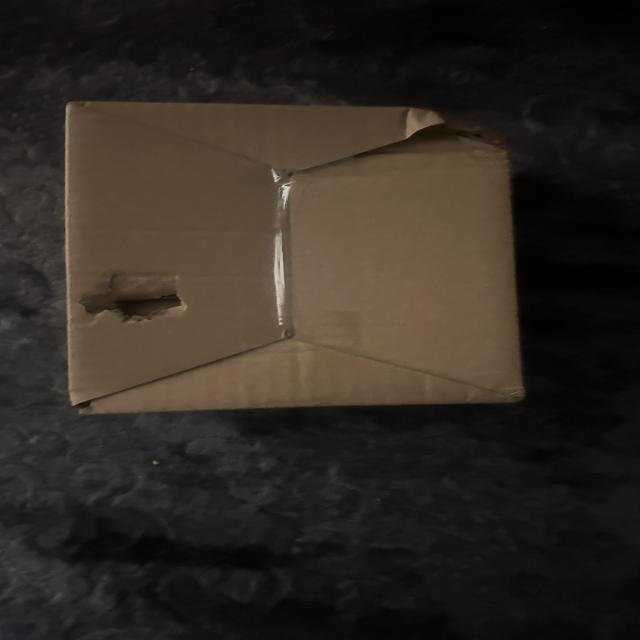damaged: (56, 94, 536, 415), (384, 90, 514, 172), (65, 264, 201, 336)
